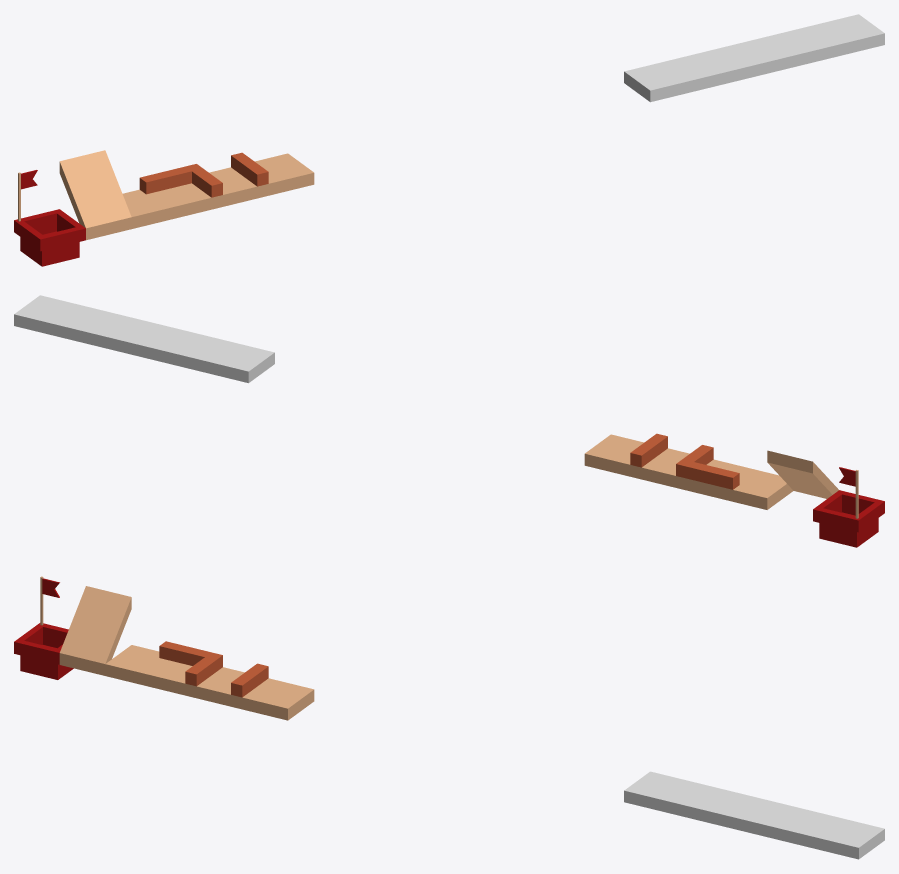
The model's file is cobaTRACKa.gltf.
The picture shows the model from 3 angles, top to bottom: view 1: azimuth 30°, elevation 25°; view 2: azimuth 150°, elevation 25°; view 3: azimuth 330°, elevation 25°; orthographic projection.
Visible parts, largest first — view 1: Cube, floor-ramp, target, floor-corner-borders, floor-border, floor-corner, floor; view 2: Cube, target, floor-corner, floor-corner-borders, floor-border, floor-ramp, floor; view 3: Cube, floor-ramp, target, floor-corner-borders, floor, floor-border, floor-corner.
Boxes of the visible parts, <box> form: Cube: <box>624,14,884,102</box>; floor-ramp: <box>59,150,131,240</box>; target: <box>14,170,85,266</box>; floor-corner-borders: <box>151,164,222,217</box>; floor-border: <box>209,152,268,206</box>; floor-corner: <box>122,175,177,228</box>; floor: <box>255,153,314,195</box>; Cube: <box>14,295,274,383</box>; target: <box>813,467,884,547</box>; floor-corner: <box>721,468,793,509</box>; floor-corner-borders: <box>676,445,747,498</box>; floor-border: <box>630,433,689,487</box>; floor-ramp: <box>767,450,838,498</box>; floor: <box>584,434,643,476</box>; Cube: <box>624,771,884,859</box>; floor-ramp: <box>59,586,131,675</box>; target: <box>14,576,73,679</box>; floor-corner-borders: <box>151,644,222,698</box>; floor: <box>242,678,314,720</box>; floor-border: <box>196,663,268,709</box>; floor-corner: <box>105,641,176,686</box>.
Size of what is drawn, in the model's own units: 73.99 by 6.5 by 4.
1 material, 1 textured.
